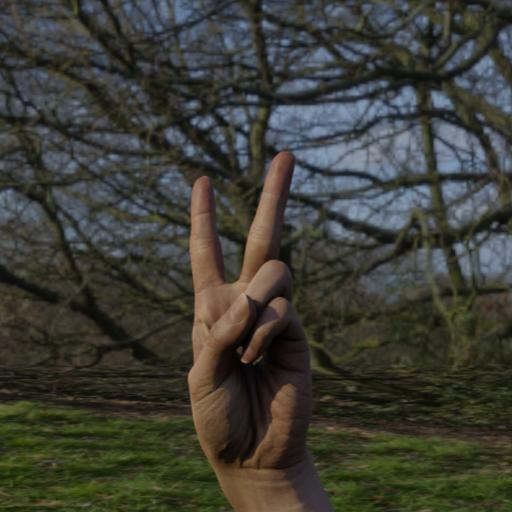V: (172, 141, 352, 486)
